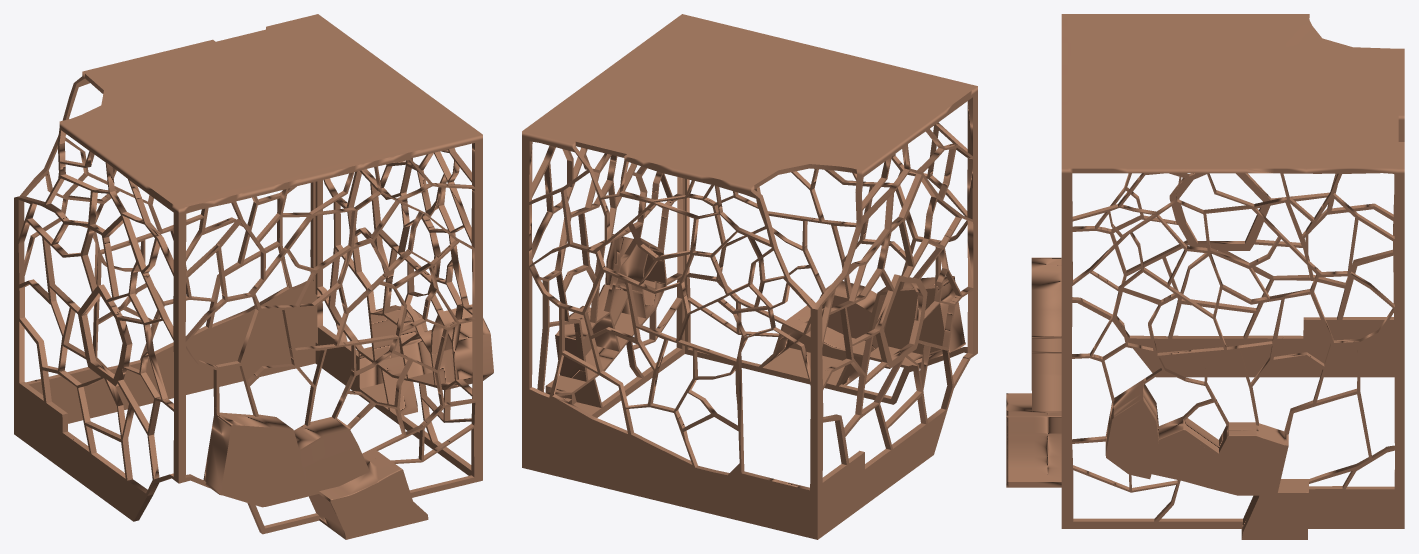
File: Nexus_ABCD.fbx
3 renders of one model, left to right at view 1: azimuth 30°, elevation 25°; view 2: azimuth 150°, elevation 25°; view 3: azimuth 270°, elevation 25°, orthographic. The views are drawn at different scales.
Parts seen in each view (by area): view 1: Collection_Room89; view 2: Collection_Room89; view 3: Collection_Room89.
Part boxes in pixels (x1,y1,x2,y2): Collection_Room89: (14,14,493,539); Collection_Room89: (522,14,977,539); Collection_Room89: (1006,14,1404,539).
Size of the model in its own units: 264 by 259 by 259.
